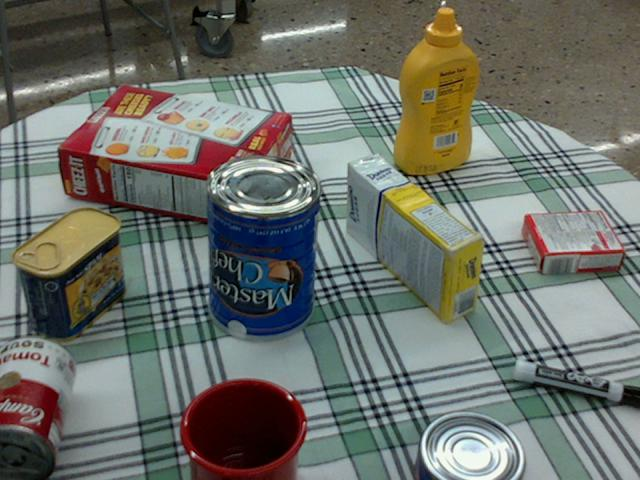cracker_box: (58, 86, 288, 226)
gelatin_box: (520, 211, 622, 274)
large_marker: (513, 359, 639, 407)
master_chef_can: (204, 154, 319, 340)
mug: (173, 377, 302, 479)
mustard_bottle: (392, 8, 478, 172)
potted_meat_can: (13, 207, 124, 340)
sugar_box: (345, 155, 483, 322)
tomato_soup_can: (0, 335, 75, 479)
tuna_fish_can: (413, 413, 524, 479)
